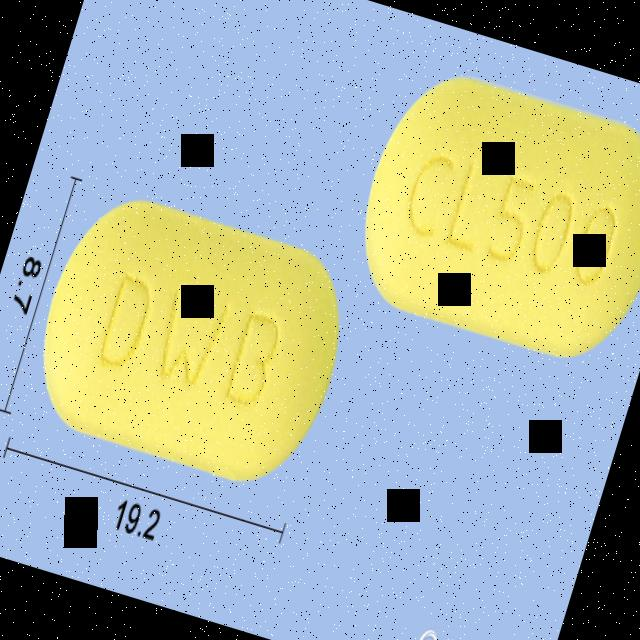Daewoong Bio Clarithromycin: (15, 176, 368, 503), (338, 58, 640, 376)
